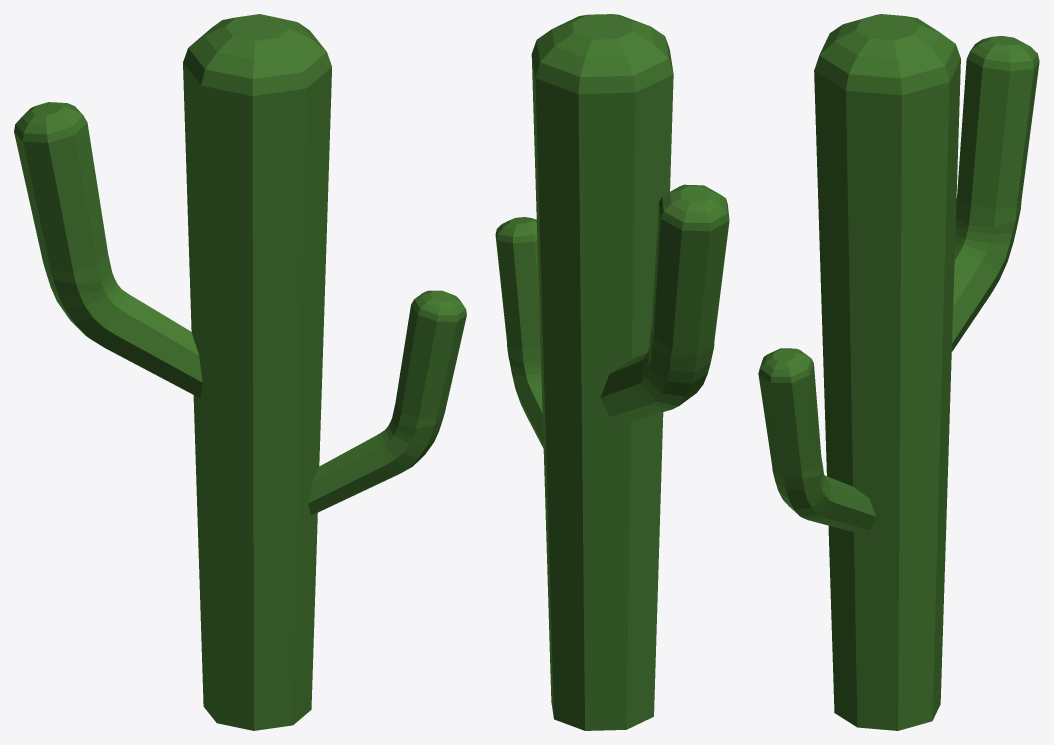
The model's file is Cactus.fbx.
The picture shows the model from 3 angles, left to right: view 1: azimuth 30°, elevation 25°; view 2: azimuth 150°, elevation 25°; view 3: azimuth 270°, elevation 25°; orthographic projection.
Parts seen in each view (by area): view 1: Cactus; view 2: Cactus; view 3: Cactus.
Boxes of the visible parts, x1=… form: Cactus: x1=14, y1=14, x2=466, y2=730; Cactus: x1=495, y1=14, x2=729, y2=730; Cactus: x1=758, y1=14, x2=1039, y2=730.
Size of the model in its own units: 51.23 by 99.37 by 37.18.
